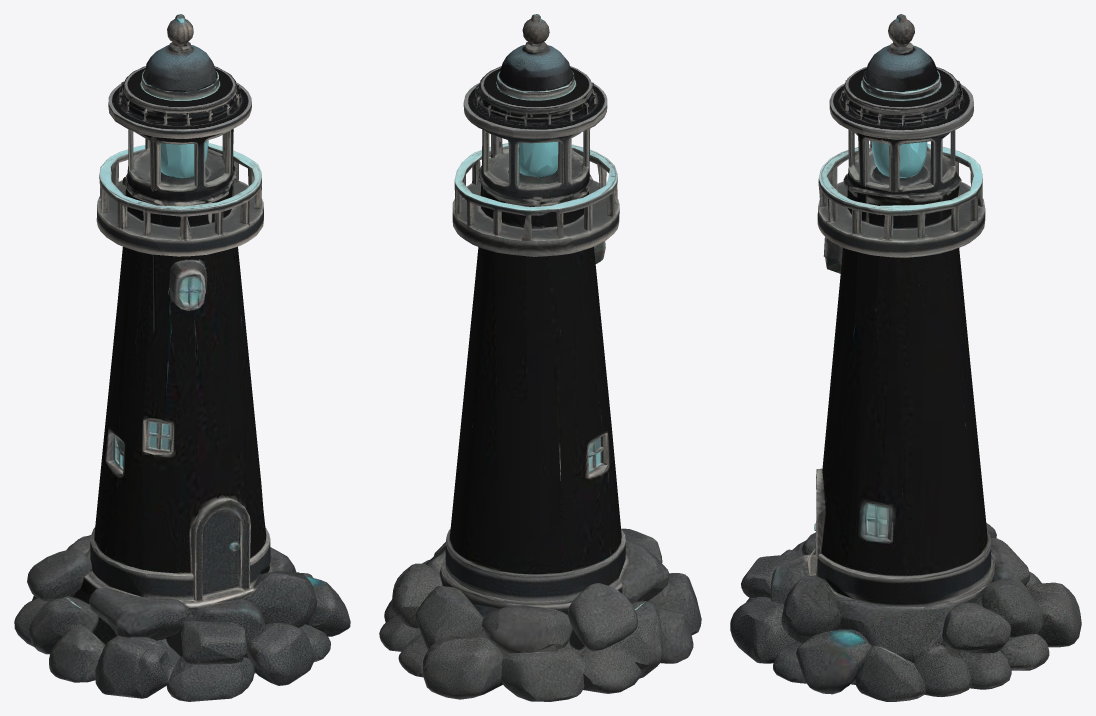
The model's file is st-lighthouse.glb.
The picture shows the model from 3 angles, left to right: view 1: azimuth 30°, elevation 25°; view 2: azimuth 150°, elevation 25°; view 3: azimuth 270°, elevation 25°; orthographic projection.
Bounding box in the file's own units: 0.8879 × 1.9 × 0.9758.
1 material, 1 textured.
